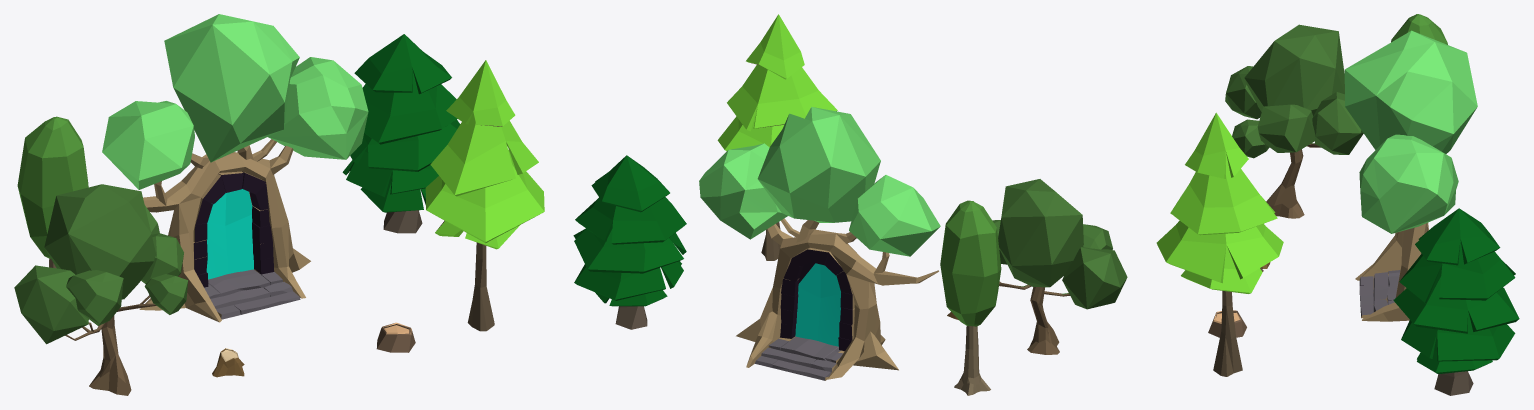
Rendered from Portal.glb.
The picture shows the model from 3 angles, left to right: view 1: azimuth 30°, elevation 25°; view 2: azimuth 150°, elevation 25°; view 3: azimuth 270°, elevation 25°; orthographic projection. The views are drawn at different scales.
Visible parts, largest first — view 1: imagetostl_mesh5, imagetostl_mesh2, imagetostl_mesh3, imagetostl_mesh6, imagetostl_mesh4, imagetostl_mesh1, imagetostl_mesh0; view 2: imagetostl_mesh5, imagetostl_mesh6, imagetostl_mesh2, imagetostl_mesh3, imagetostl_mesh4; view 3: imagetostl_mesh5, imagetostl_mesh6, imagetostl_mesh3, imagetostl_mesh2, imagetostl_mesh4, imagetostl_mesh1.
Boxes of the visible parts, <box> form: imagetostl_mesh5: <box>102,14,368,322</box>; imagetostl_mesh2: <box>14,184,188,395</box>; imagetostl_mesh3: <box>425,60,544,331</box>; imagetostl_mesh6: <box>342,34,460,233</box>; imagetostl_mesh4: <box>17,116,88,268</box>; imagetostl_mesh1: <box>376,322,415,352</box>; imagetostl_mesh0: <box>212,348,244,377</box>; imagetostl_mesh5: <box>699,107,940,380</box>; imagetostl_mesh6: <box>573,155,686,329</box>; imagetostl_mesh2: <box>992,179,1127,354</box>; imagetostl_mesh3: <box>717,14,837,260</box>; imagetostl_mesh4: <box>940,200,1001,395</box>; imagetostl_mesh5: <box>1344,30,1477,321</box>; imagetostl_mesh6: <box>1393,208,1519,395</box>; imagetostl_mesh3: <box>1156,112,1283,376</box>; imagetostl_mesh2: <box>1225,24,1363,218</box>; imagetostl_mesh4: <box>1391,14,1447,44</box>; imagetostl_mesh1: <box>1208,310,1246,337</box>.
Size of the model in its own units: 6.77 by 3.34 by 4.22.
